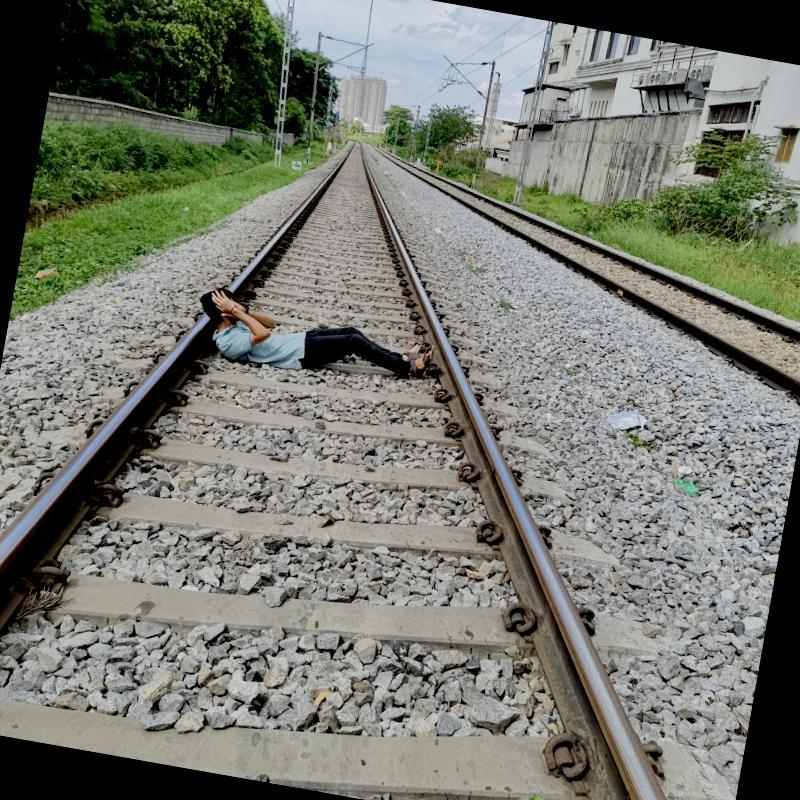sleeping: (181, 279, 450, 398)
